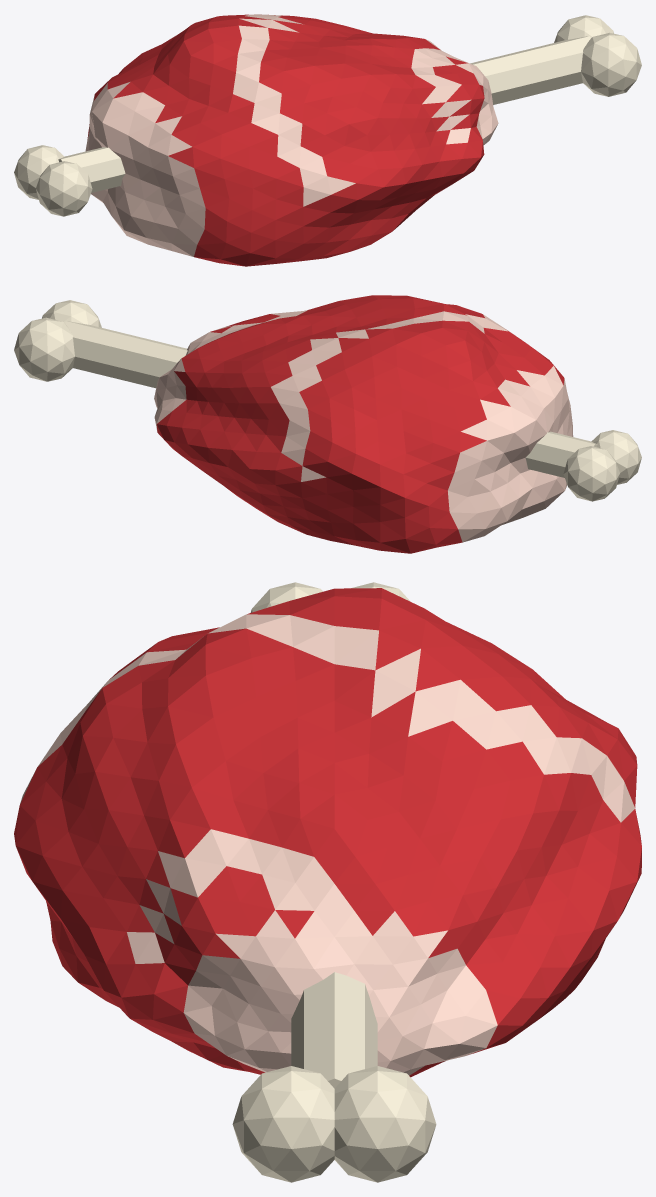
File: carne.glb
3 views of the same model, one above another, from view 1: azimuth 30°, elevation 25°; view 2: azimuth 150°, elevation 25°; view 3: azimuth 270°, elevation 25° (orthographic). The views are drawn at different scales.
Parts seen in each view (by area): view 1: carne; view 2: carne; view 3: carne.
Boxes of the visible parts, left/top/right/bottom form: carne: left=14, top=14, right=641, bottom=266; carne: left=14, top=295, right=641, bottom=553; carne: left=14, top=582, right=641, bottom=1182.
Bounding box in the file's own units: 1.58 × 0.4788 × 0.8009.
